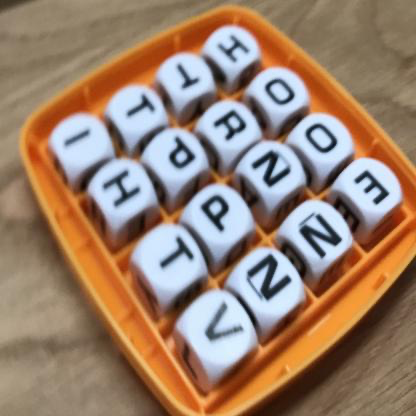e: (353, 163, 396, 214)
h: (94, 165, 146, 212), (211, 25, 254, 70)
i: (47, 114, 98, 162)
n: (237, 247, 295, 316), (296, 207, 342, 273), (249, 146, 297, 198)
o: (301, 117, 345, 163), (258, 73, 299, 113)
p: (193, 190, 242, 251), (156, 131, 207, 180)
r: (211, 106, 249, 149)
t: (156, 225, 200, 287), (119, 88, 162, 131), (167, 56, 205, 100)
v: (195, 297, 247, 354)
